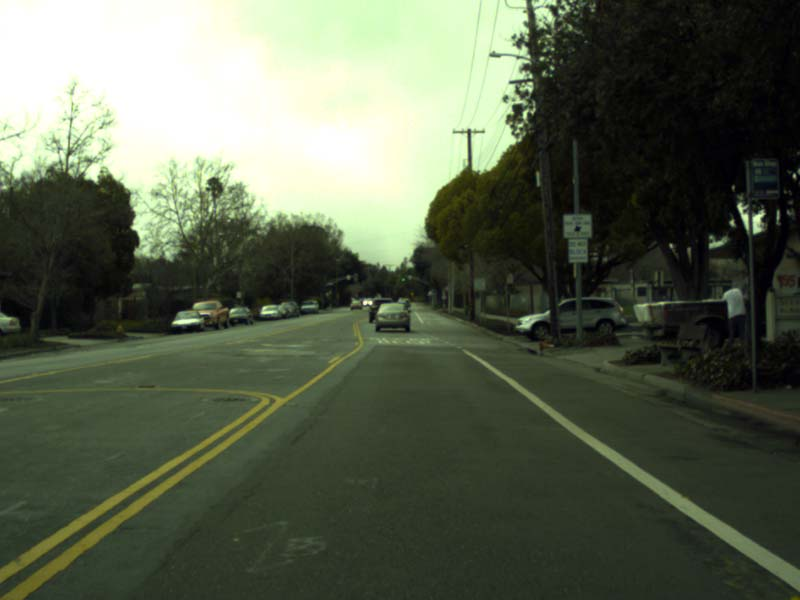Green: (401, 273, 405, 281), (328, 286, 331, 295)
